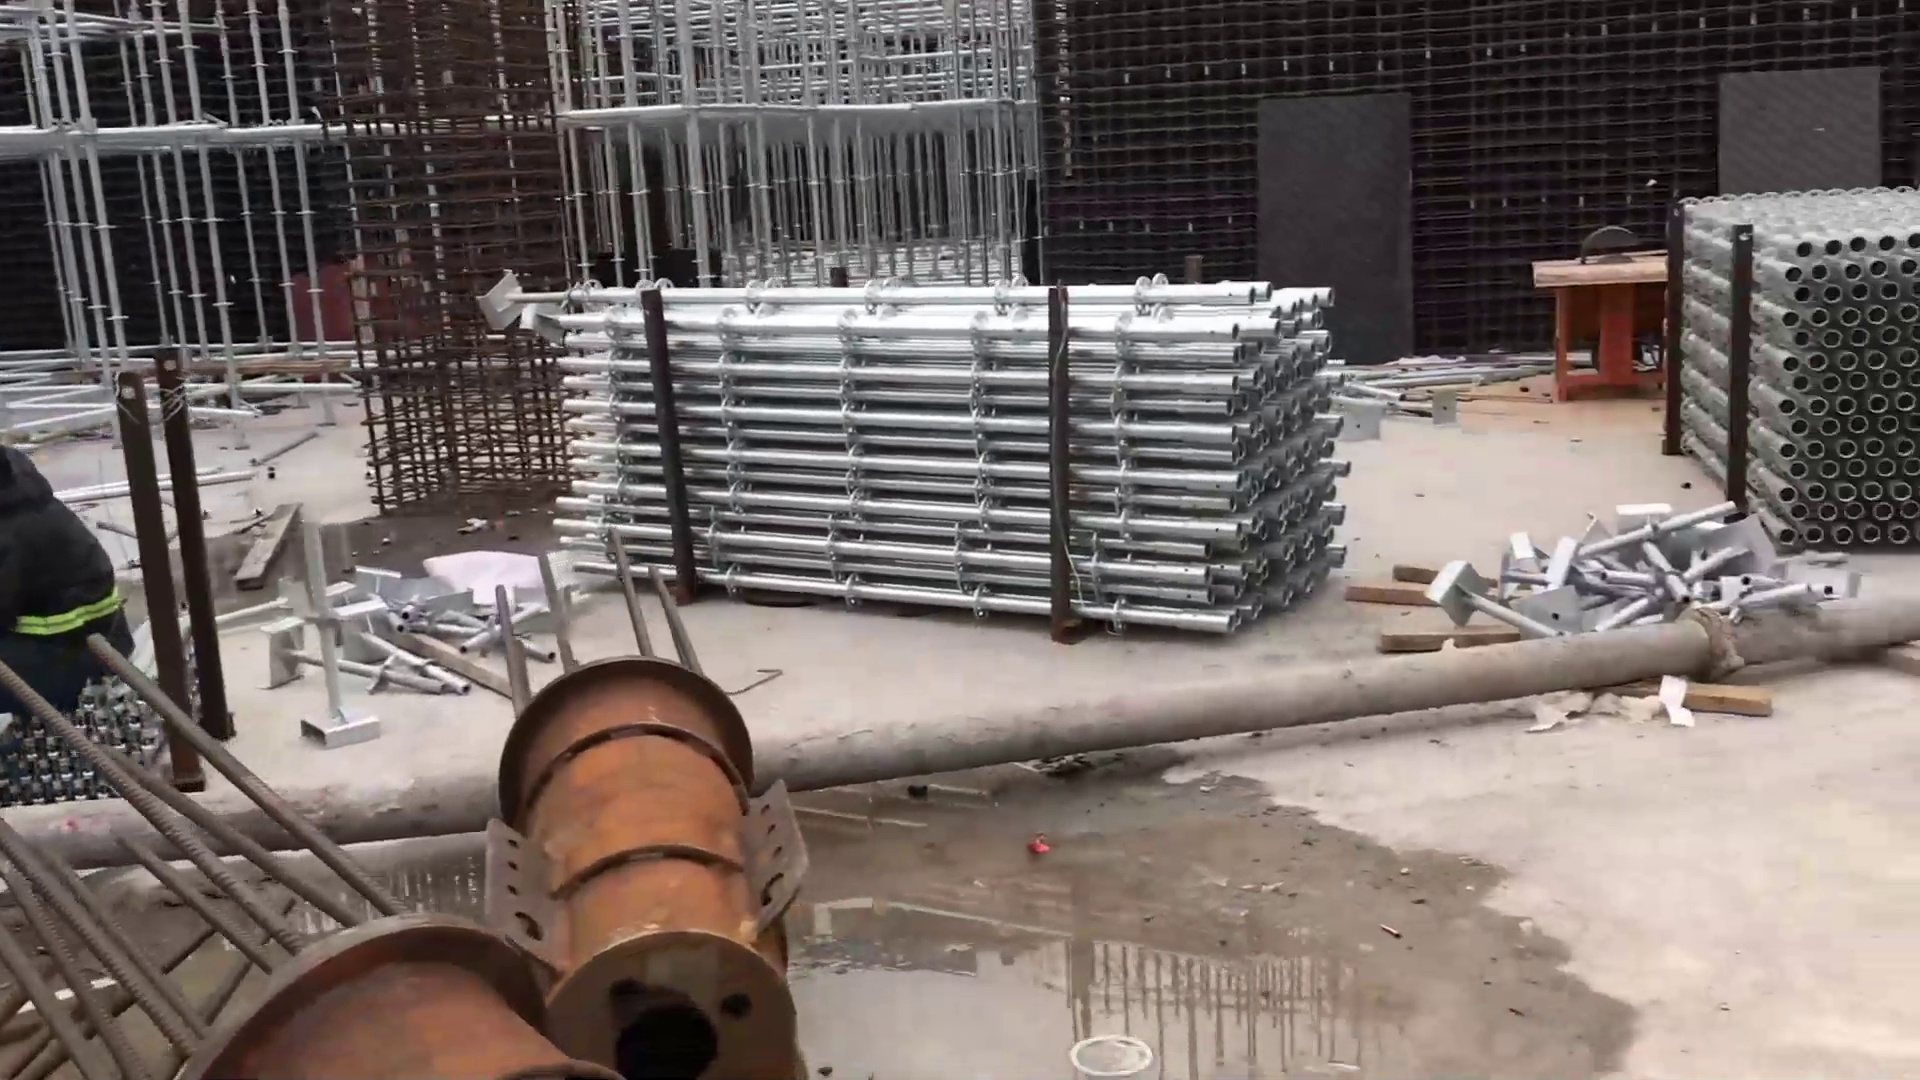cutter: (1523, 214, 1667, 419)
scaffold: (562, 276, 1358, 641), (1673, 179, 1920, 554)
